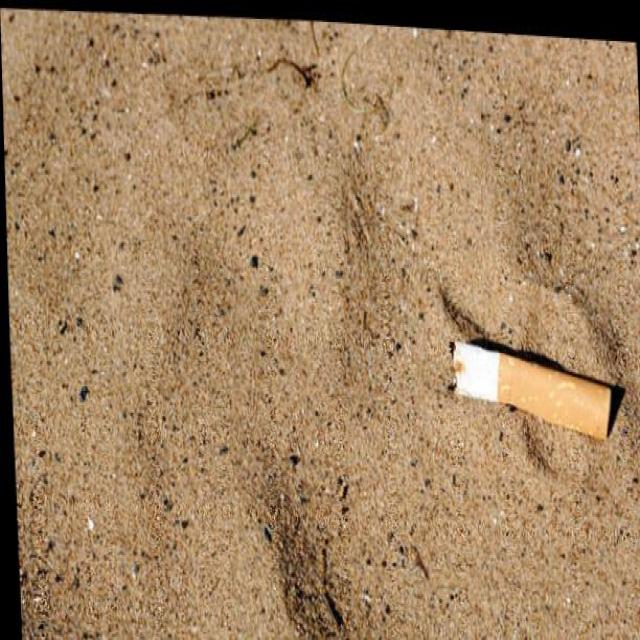cigarette: (440, 327, 618, 444)
